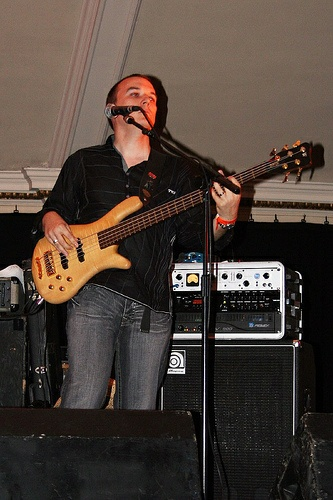without_mask: (105, 70, 169, 149)
